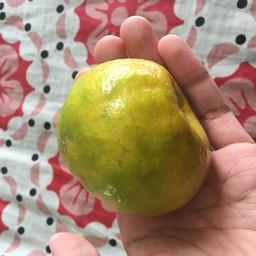Good_orange: (50, 55, 208, 216)
